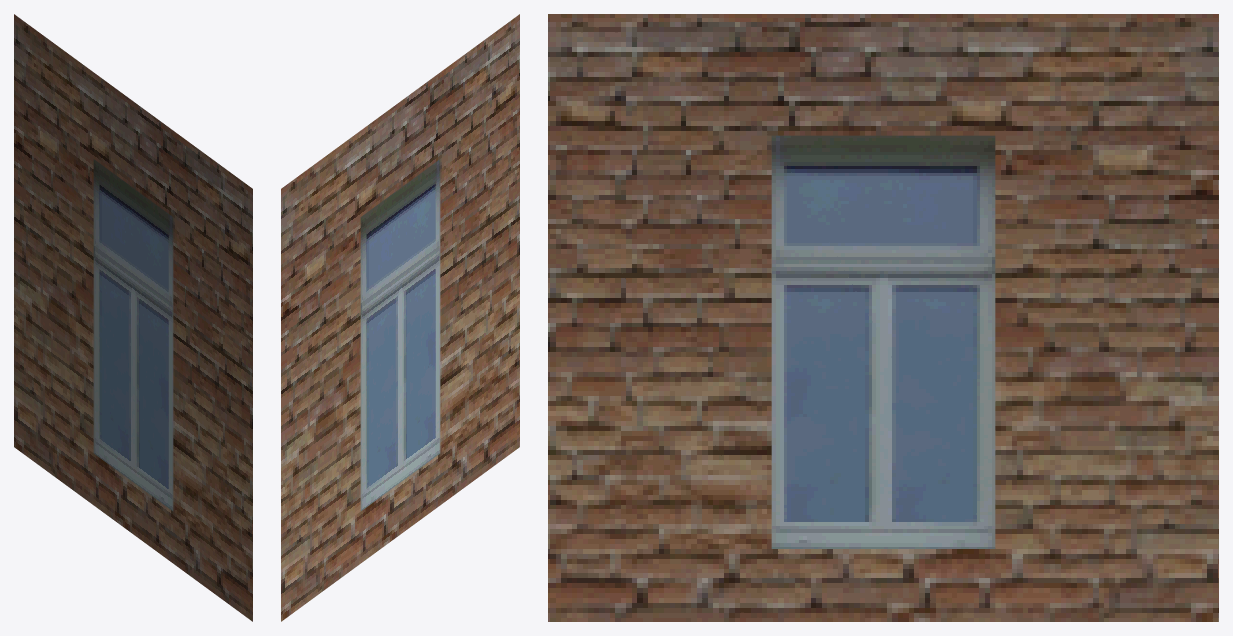
The model's file is brick_wall_window_1.glb.
3 views of the same model, side by side, from view 1: azimuth 30°, elevation 25°; view 2: azimuth 150°, elevation 25°; view 3: azimuth 270°, elevation 25° (orthographic). The views are drawn at different scales.
Parts seen in each view (by area): view 1: brick_wall_window_1; view 2: brick_wall_window_1; view 3: brick_wall_window_1.
Part boxes in pixels (x1,y1,x2,y2): brick_wall_window_1: [14, 14, 252, 621]; brick_wall_window_1: [281, 14, 519, 621]; brick_wall_window_1: [548, 14, 1218, 621].
Size of the model in its own units: 0 by 3 by 3.
Materials: 1 (1 with a texture image).
